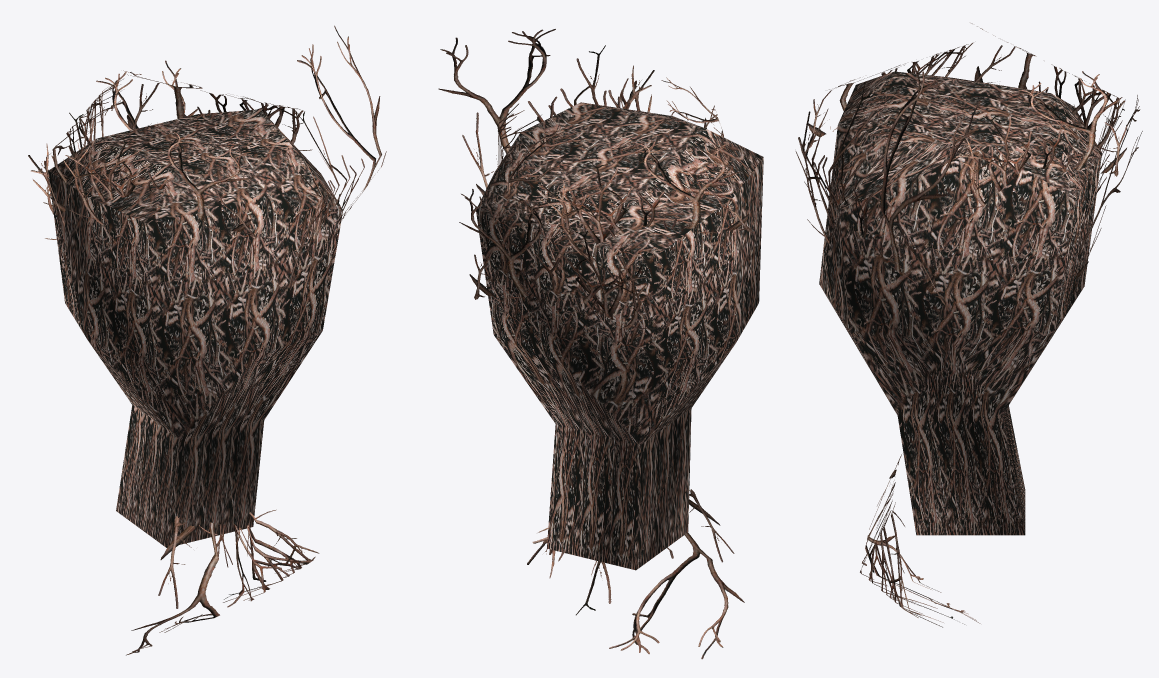
The model's file is poi_all_lair_thicket_small_l3.fbx.
3 views of the same model, side by side, from view 1: azimuth 30°, elevation 25°; view 2: azimuth 150°, elevation 25°; view 3: azimuth 270°, elevation 25° (orthographic). The views are drawn at different scales.
Visible parts, largest first — view 1: mesh_node; view 2: mesh_node; view 3: mesh_node.
Part boxes in pixels (x1,y1,x2,y2): mesh_node: (28,25,386,655); mesh_node: (438,29,763,659); mesh_node: (795,23,1142,627).
Bounding box in the file's own units: 2.49 × 4.17 × 2.14.
